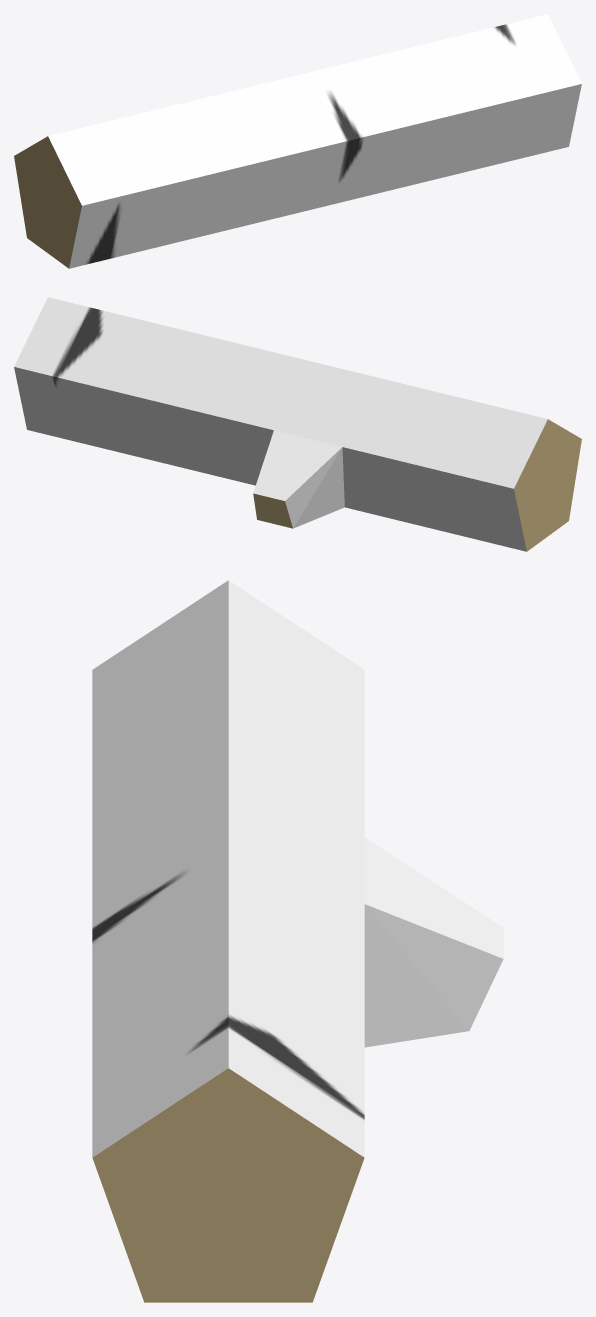
Rendered from Birch_Firewood_02_LOD.fbx.
3 renders of one model, top to bottom at view 1: azimuth 30°, elevation 25°; view 2: azimuth 150°, elevation 25°; view 3: azimuth 270°, elevation 25°, orthographic. The views are drawn at different scales.
Parts seen in each view (by area): view 1: Birch_Firewood_02_LOD0; view 2: Birch_Firewood_02_LOD0; view 3: Birch_Firewood_02_LOD0.
Part boxes in pixels (bbox=[...]): Birch_Firewood_02_LOD0: bbox=[14, 14, 581, 268]; Birch_Firewood_02_LOD0: bbox=[14, 297, 581, 551]; Birch_Firewood_02_LOD0: bbox=[92, 580, 503, 1302].
Size of what is drawn, in the model's own units: 56 by 12.56 by 19.95.
